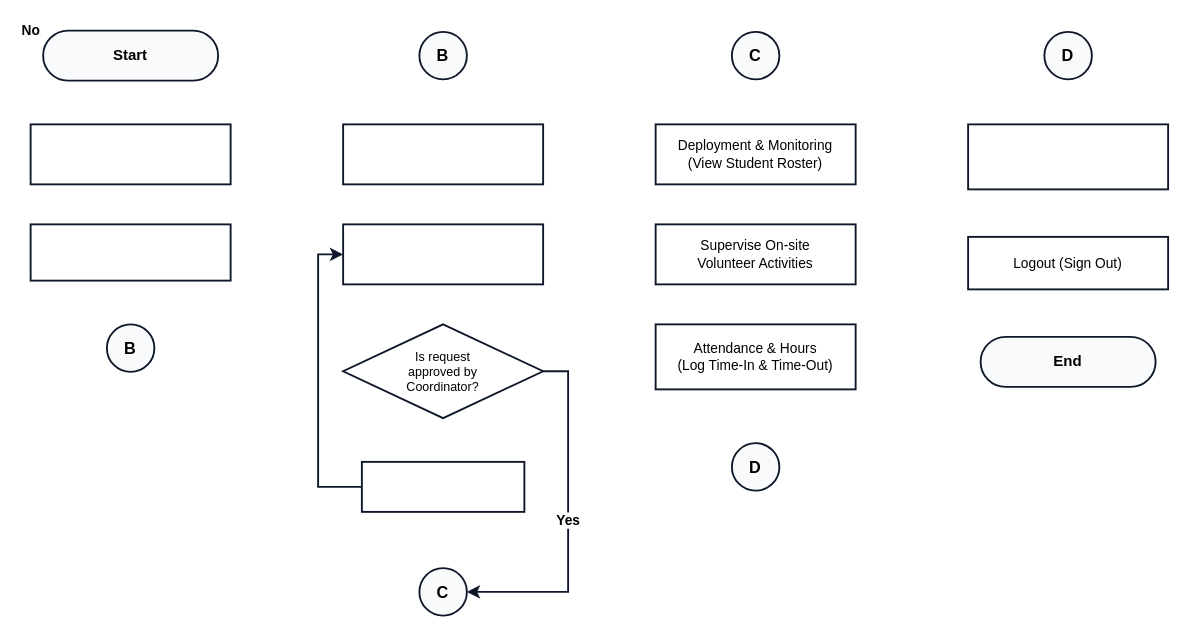
This 1191x639 diagram has some shape labels left out. The centre of each missing label's shape, as x and y in pixels:
Community Requests (Create & Submit Request): the point at 443,254
Dashboard (Metrics & Overview): the point at 443,154
Feedback & Evaluation (Rate Students & Remarks): the point at 1067,156
Login to Partner Portal: the point at 130,252
Receive Official Credentials from CWTS: the point at 130,154
Revise Request Details & Resubmit: the point at 442,486
